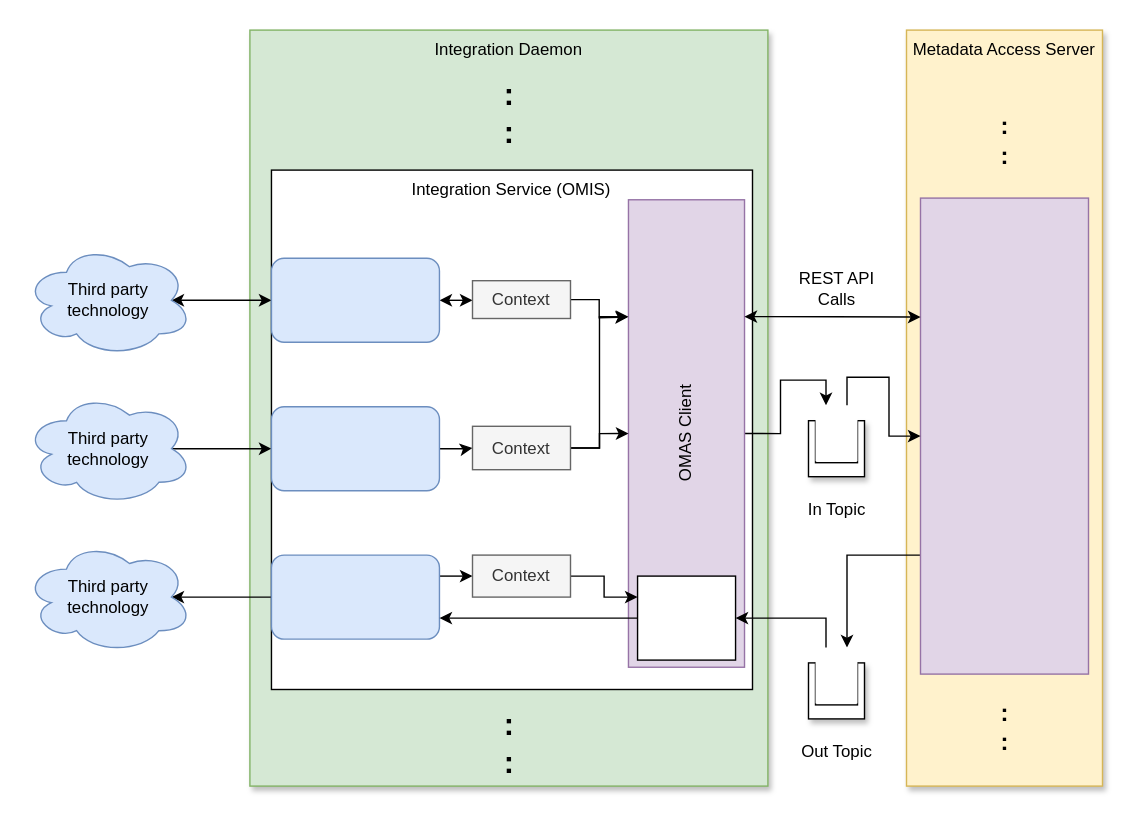
Some shapes in this 1135 by 820 pixel diagram are drawn without their labels. The centre of each missing label's shape, as x and y in pixels:
"Inbound listening connector" belongs at [354,448].
"OMAS" belongs at [1003,435].
"OMAS Client-side OutTopic Connector" belongs at [686,617].
"Outbound listening connector" belongs at [354,596].
"Polling connector" belongs at [354,299].
